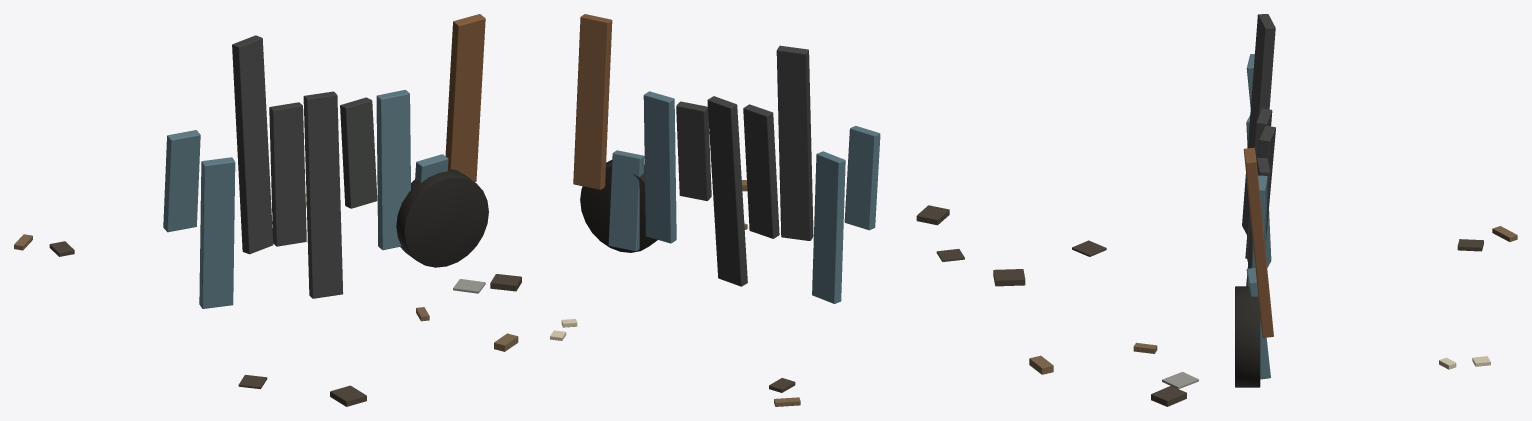
Rendered from dz_barricade_scrap_metal_premium.glb.
The picture shows the model from 3 angles, left to right: view 1: azimuth 30°, elevation 25°; view 2: azimuth 150°, elevation 25°; view 3: azimuth 270°, elevation 25°; orthographic projection. The views are drawn at different scales.
Visible parts, largest first — view 1: scrap_panel_4, scrap_tire_wedged, scrap_panel_2, scrap_panel_8, scrap_panel_1, scrap_panel_3, scrap_panel_6, scrap_panel_5, scrap_panel_0, scrap_panel_7, scrap_debris_09, scrap_debris_02; view 2: scrap_panel_2, scrap_panel_8, scrap_panel_4, scrap_panel_6, scrap_panel_1, scrap_panel_3, scrap_panel_0, scrap_panel_5, scrap_panel_7, scrap_tire_wedged, scrap_debris_09; view 3: scrap_tire_wedged, scrap_panel_2, scrap_panel_8, scrap_panel_4, scrap_panel_7, scrap_panel_3, scrap_debris_09, scrap_debris_02, scrap_panel_6, scrap_panel_5.
Boxes of the visible parts, left/top/right/bottom form: scrap_panel_4: left=303, top=91, right=343, bottom=298; scrap_tire_wedged: left=396, top=168, right=488, bottom=267; scrap_panel_2: left=232, top=35, right=273, bottom=254; scrap_panel_8: left=445, top=14, right=485, bottom=181; scrap_panel_1: left=199, top=157, right=235, bottom=308; scrap_panel_3: left=269, top=102, right=306, bottom=246; scrap_panel_6: left=376, top=90, right=410, bottom=250; scrap_panel_5: left=340, top=97, right=377, bottom=208; scrap_panel_0: left=163, top=130, right=200, bottom=232; scrap_panel_7: left=415, top=154, right=448, bottom=182; scrap_debris_09: left=330, top=385, right=366, bottom=406; scrap_debris_02: left=490, top=274, right=521, bottom=291; scrap_panel_2: left=776, top=45, right=813, bottom=240; scrap_panel_8: left=573, top=14, right=612, bottom=189; scrap_panel_4: left=707, top=96, right=747, bottom=286; scrap_panel_6: left=643, top=91, right=676, bottom=243; scrap_panel_1: left=812, top=151, right=845, bottom=303; scrap_panel_3: left=743, top=104, right=779, bottom=238; scrap_panel_0: left=844, top=126, right=880, bottom=230; scrap_panel_5: left=676, top=101, right=711, bottom=200; scrap_panel_7: left=608, top=150, right=644, bottom=251; scrap_tire_wedged: left=580, top=160, right=657, bottom=252; scrap_debris_09: left=916, top=205, right=949, bottom=225; scrap_tire_wedged: left=1235, top=286, right=1260, bottom=387; scrap_panel_2: left=1242, top=14, right=1275, bottom=234; scrap_panel_8: left=1243, top=147, right=1273, bottom=337; scrap_panel_4: left=1246, top=125, right=1275, bottom=286; scrap_panel_7: left=1246, top=268, right=1270, bottom=379; scrap_panel_3: left=1245, top=108, right=1272, bottom=258; scrap_debris_09: left=993, top=269, right=1025, bottom=286; scrap_debris_02: left=1151, top=386, right=1186, bottom=406; scrap_panel_6: left=1252, top=175, right=1267, bottom=267; scrap_panel_5: left=1247, top=157, right=1270, bottom=268.
Size of the model in its own units: 2.96 by 2.16 by 3.72.
